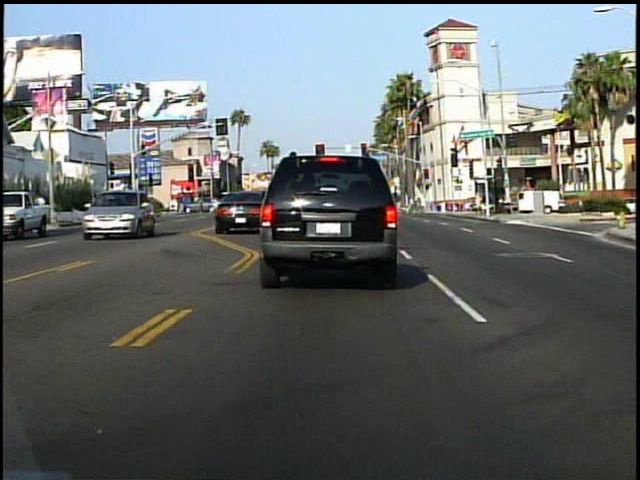person: (172, 188, 186, 220)
